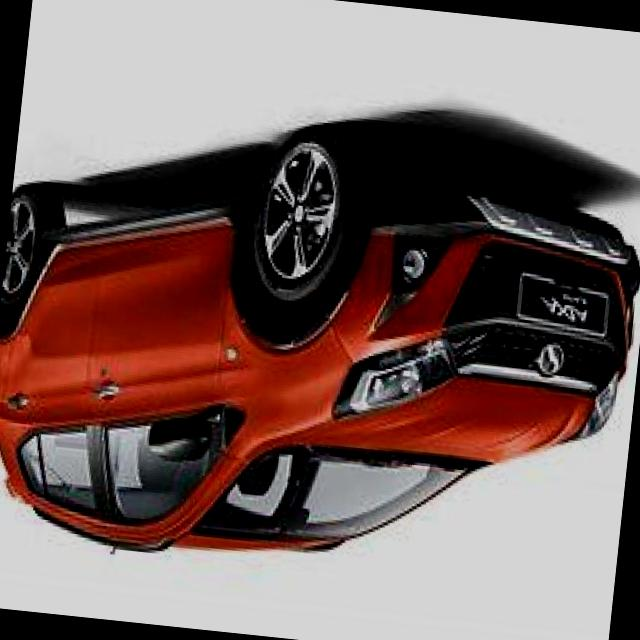PeroduaAxia: (0, 90, 640, 606)
